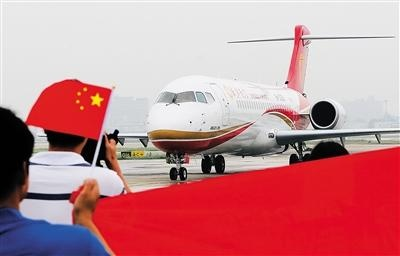airplane: (123, 24, 400, 176)
